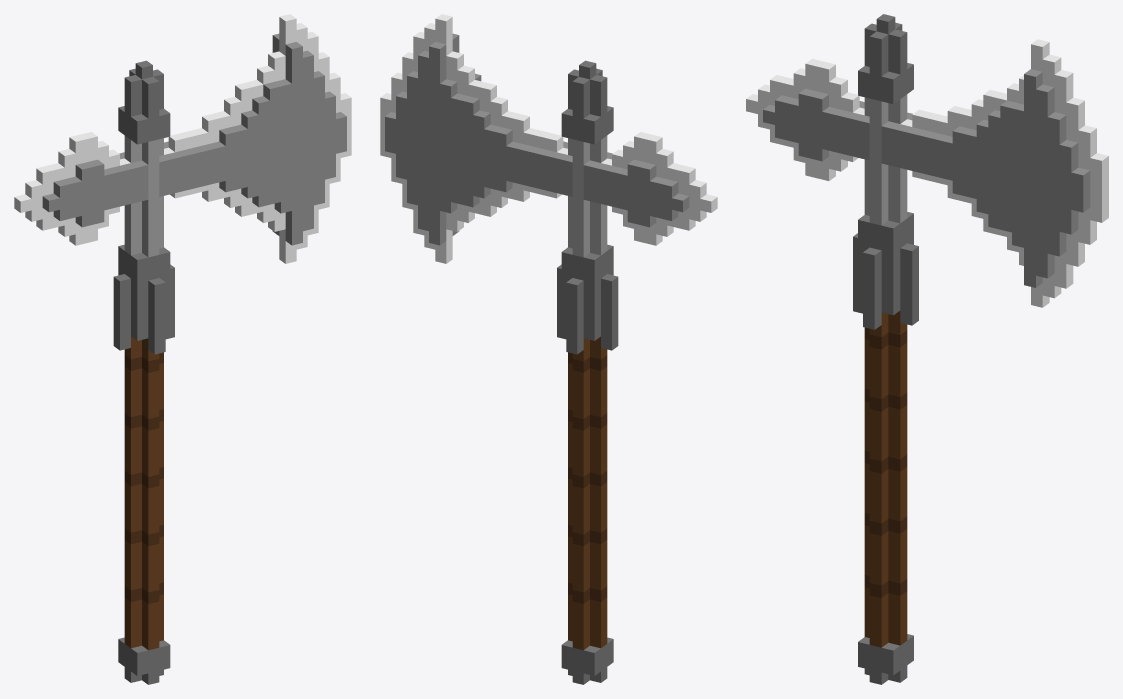
Rendered from axe.obj.
3 renders of one model, left to right at view 1: azimuth 30°, elevation 25°; view 2: azimuth 150°, elevation 25°; view 3: azimuth 330°, elevation 25°, orthographic. The views are drawn at different scales.
Bounding box in the file's own units: 3 × 5.4 × 0.5.
1 material, 1 textured.
